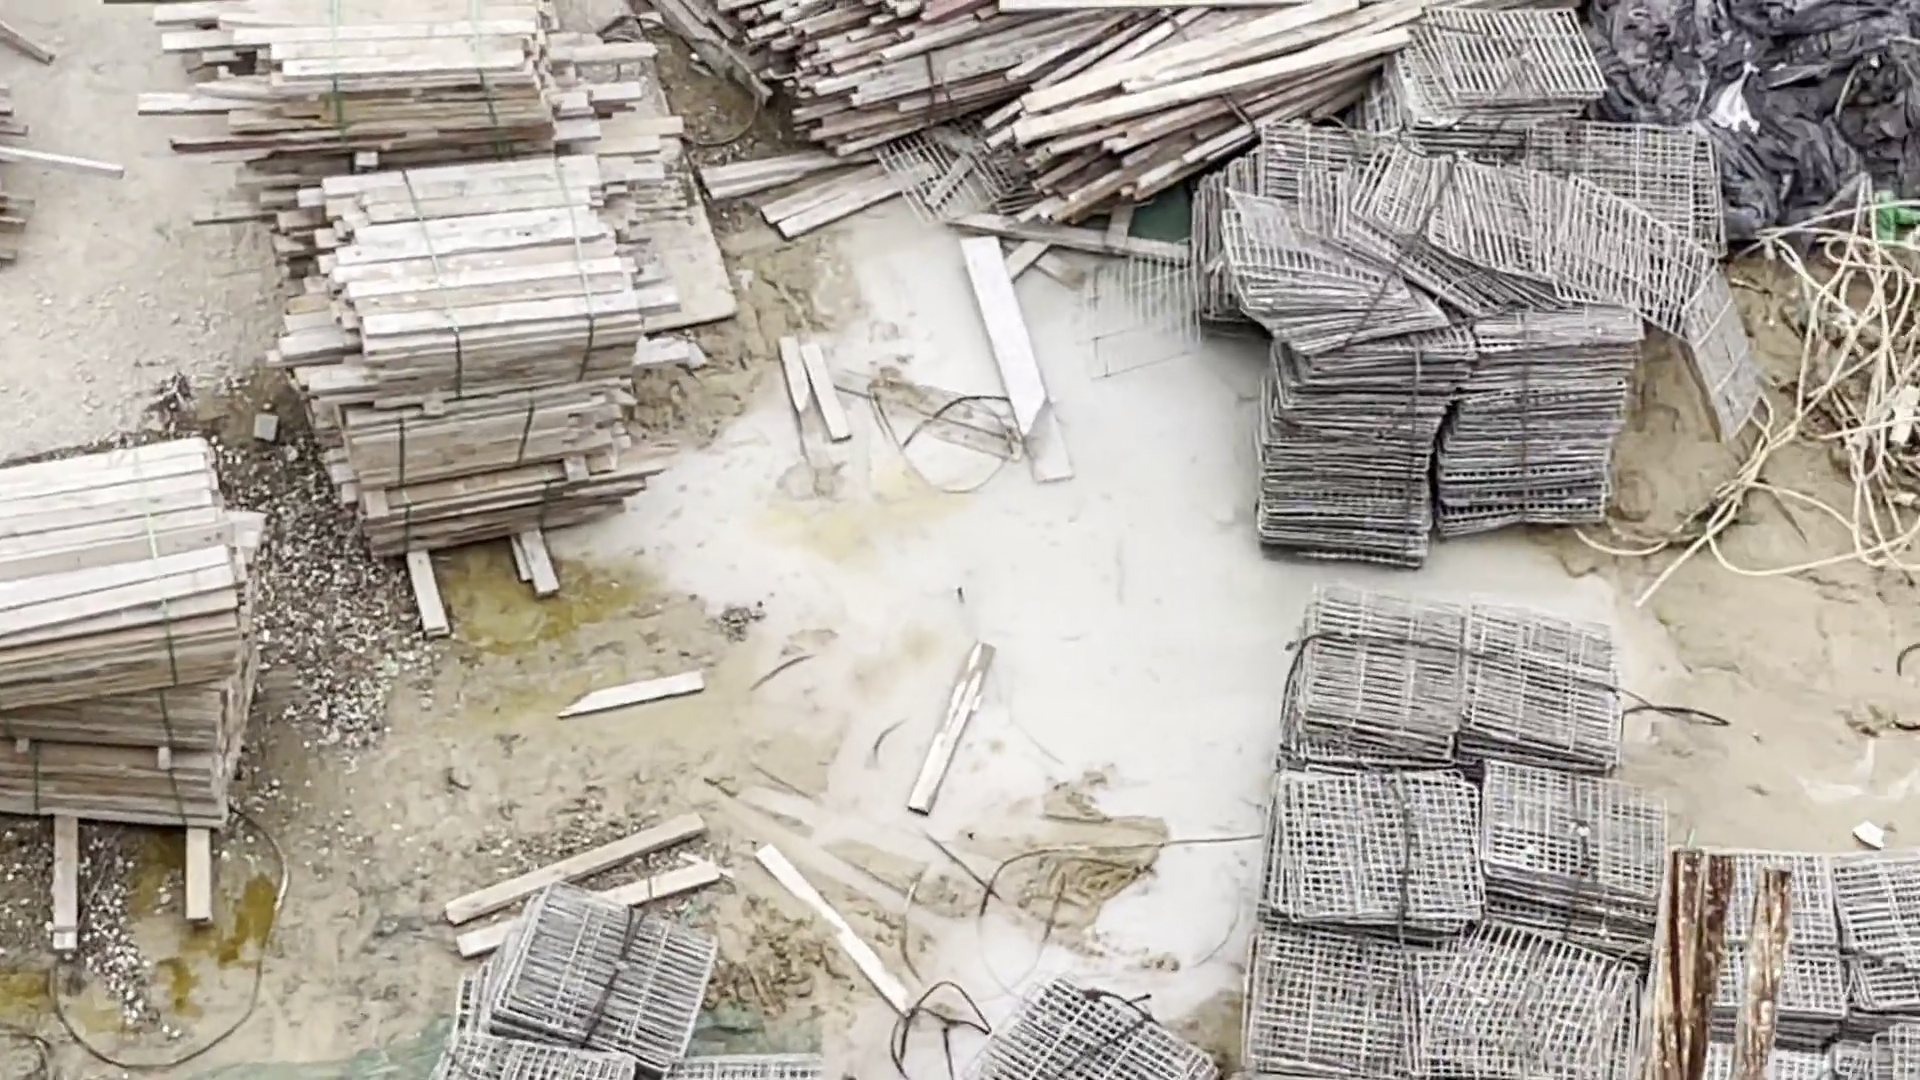wood: (286, 190, 642, 538), (700, 1, 1390, 173), (3, 425, 265, 837), (160, 1, 618, 179)
